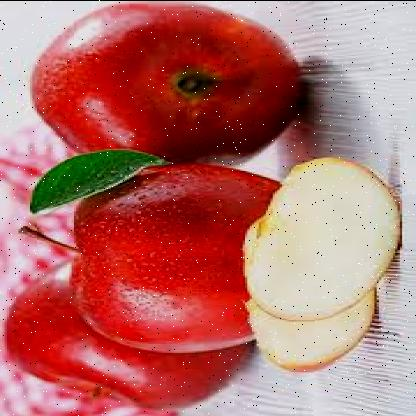apple: (30, 6, 305, 162), (72, 161, 300, 346), (14, 261, 245, 404)
damaged_apple: (244, 158, 404, 320), (238, 273, 379, 370)
